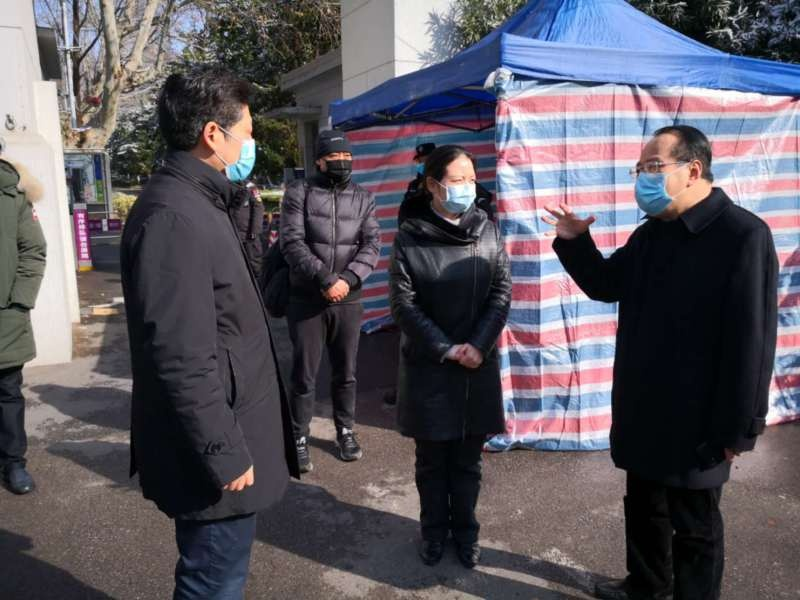correctlyWear: (631, 146, 703, 216), (200, 104, 258, 182), (425, 165, 479, 213), (318, 149, 354, 185)
